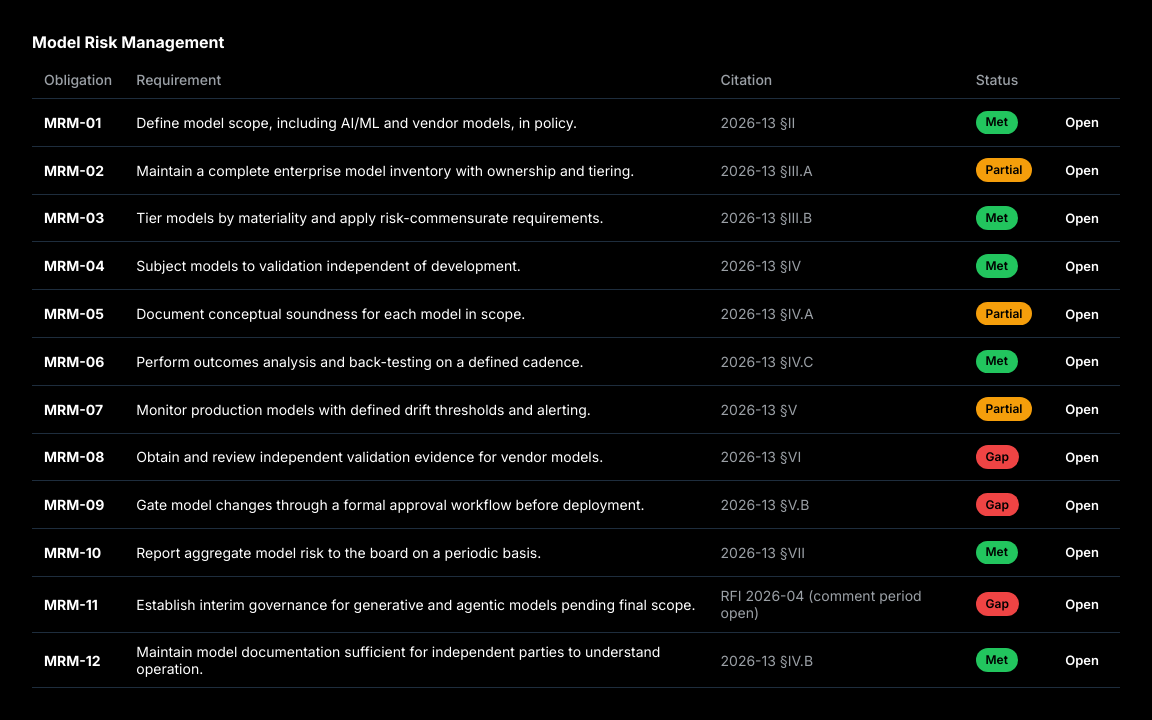
Scenario: B-dead-interactions-01/-02 · OnSideDocuments gap board + obligation registers open the obligation drawer › a domain-impact obligation register row opens the obligation drawer with its requirement/citation/status
This screenshot has width=1152, height=720.
(page scrolled)
expect the row that starts with "MRM-08" is shown: met, box [32, 433, 1120, 481]
Click the 8th button "Open".
click(1082, 457)  # box [1056, 444, 1108, 470]
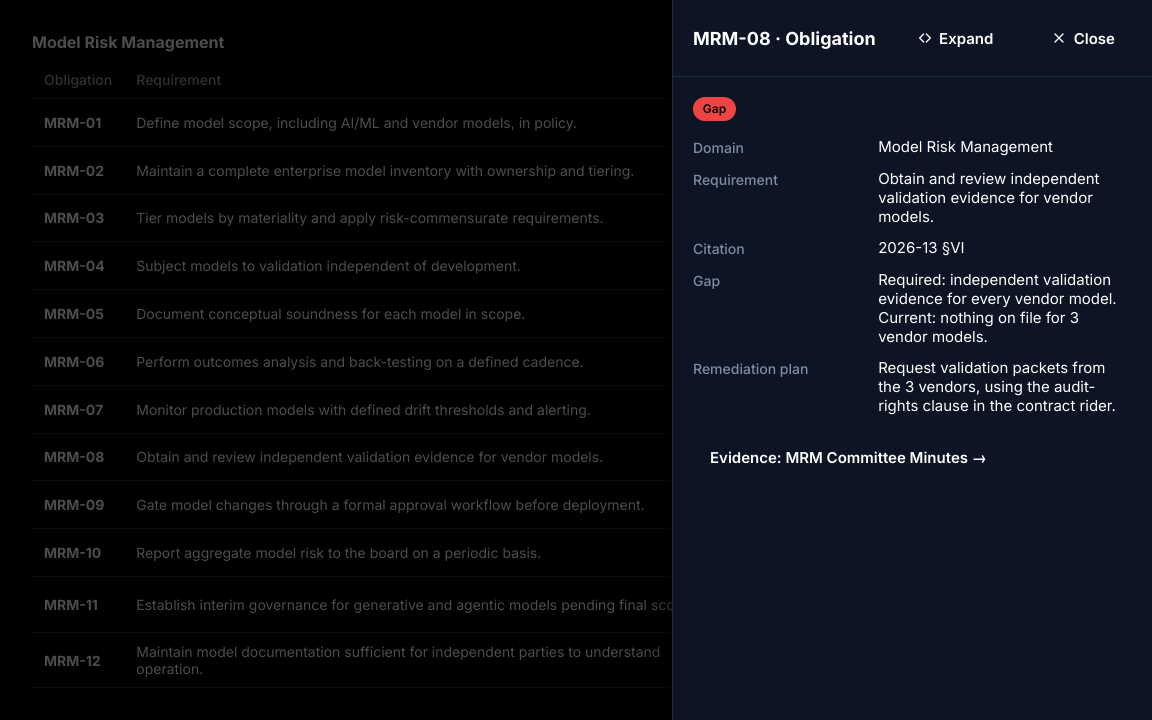
expect the text "Obtain and review independent validation evidence for vendor models." is shown: met, box [878, 169, 1132, 226]
expect the text "2026-13 §VI" is shown: met, box [878, 238, 965, 257]
expect the text "Required: independent validation evidence for every vendor model. Current: nothing on file for 3 vendor models." is shown: met, box [878, 270, 1117, 346]
